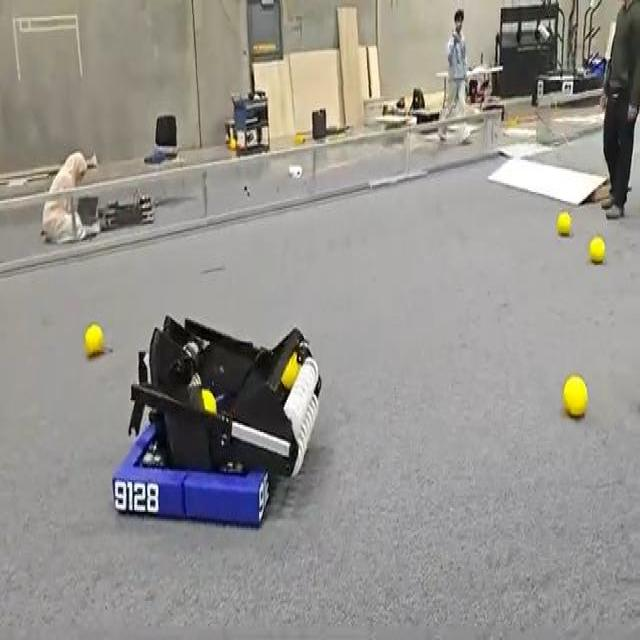Fuel: (563, 375, 587, 416), (281, 352, 300, 390), (281, 352, 300, 389), (84, 324, 103, 356), (588, 238, 606, 264), (589, 237, 605, 263), (201, 390, 216, 412), (556, 212, 571, 234)
